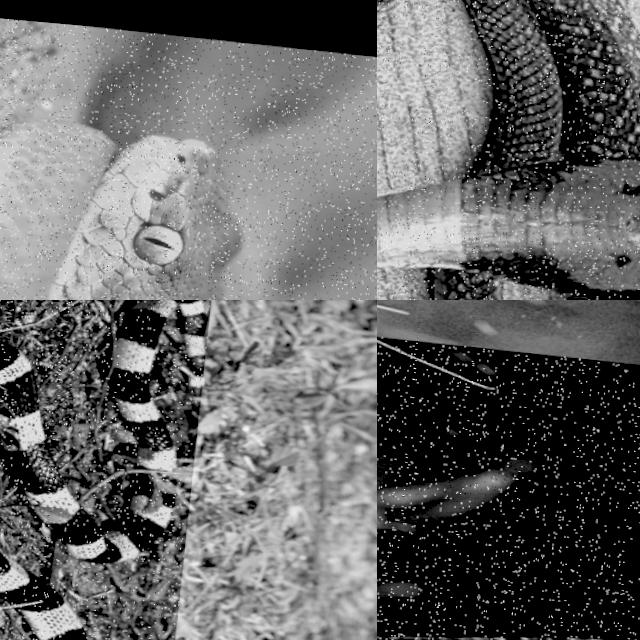Bungarus candidus: (0, 342, 173, 563)
Naja kaouthia: (377, 0, 639, 299)
Naja siamensis: (377, 637, 475, 639)
Trimeresurus macrops: (0, 38, 376, 299)
snake: (0, 38, 376, 299), (377, 0, 639, 299), (0, 342, 173, 563), (377, 637, 475, 639)
